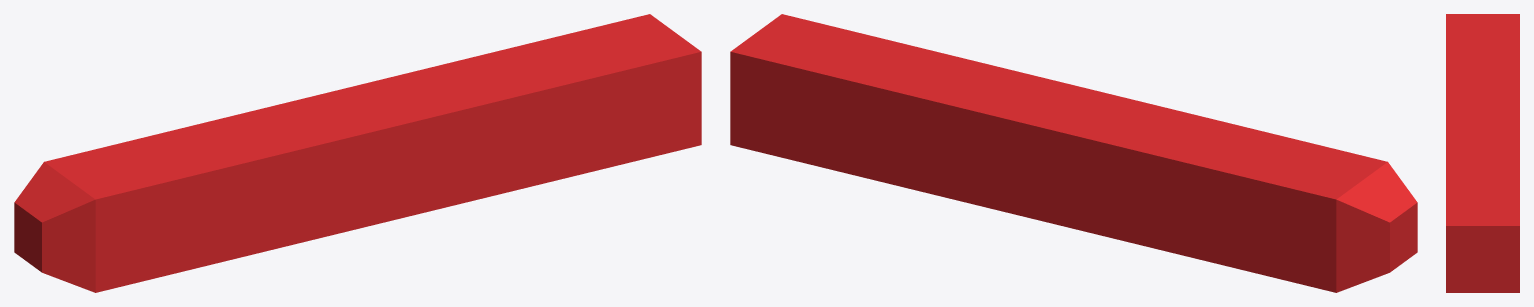
Rendered from laser prefab.fbx.
The picture shows the model from 3 angles, left to right: view 1: azimuth 30°, elevation 25°; view 2: azimuth 150°, elevation 25°; view 3: azimuth 270°, elevation 25°; orthographic projection. The views are drawn at different scales.
Parts seen in each view (by area): view 1: Cube; view 2: Cube; view 3: Cube.
Boxes of the visible parts, <box> form: Cube: <box>14,14,701,292</box>; Cube: <box>730,14,1417,292</box>; Cube: <box>1446,14,1519,292</box>.
Bounding box in the file's own units: 275 × 37.9 × 37.9.
